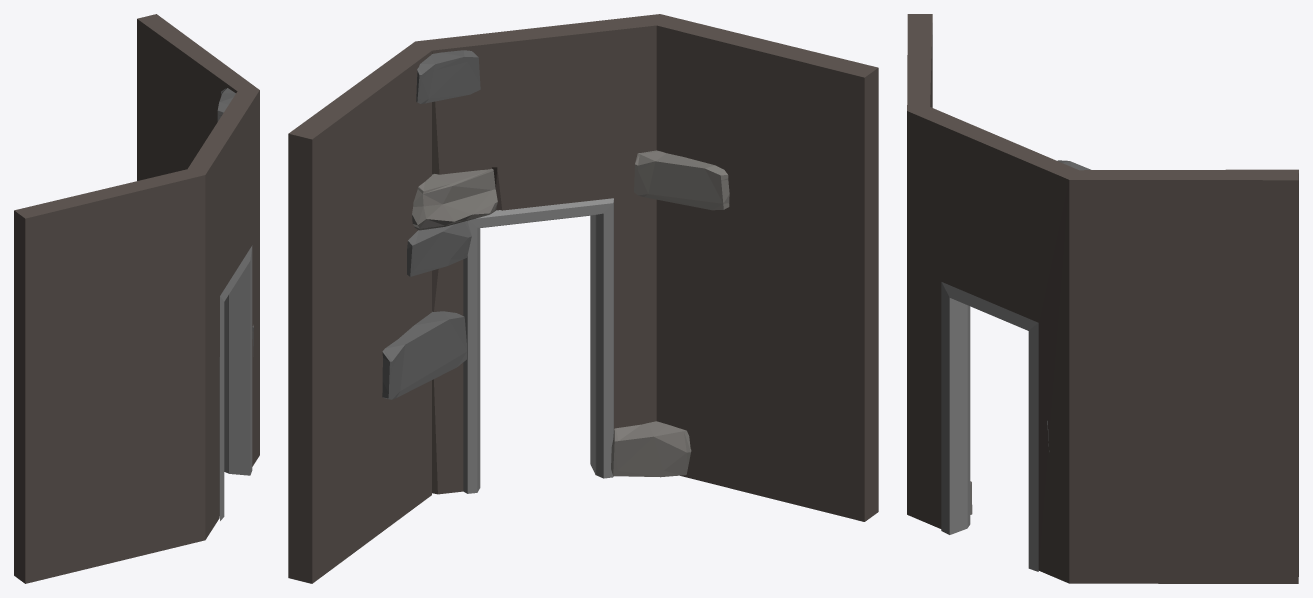
The model's file is MCastle_OctWall_Int_00.FBX.
The picture shows the model from 3 angles, left to right: view 1: azimuth 30°, elevation 25°; view 2: azimuth 150°, elevation 25°; view 3: azimuth 270°, elevation 25°; orthographic projection. The views are drawn at different scales.
Parts seen in each view (by area): view 1: MCastle_OctWall_Int_00_LOD0; view 2: MCastle_OctWall_Int_00_LOD0; view 3: MCastle_OctWall_Int_00_LOD0.
Part boxes in pixels (left/top/right/bottom): MCastle_OctWall_Int_00_LOD0: left=14, top=14, right=259, bottom=583; MCastle_OctWall_Int_00_LOD0: left=288, top=14, right=878, bottom=583; MCastle_OctWall_Int_00_LOD0: left=907, top=14, right=1298, bottom=583.
Size of what is drawn, in the model's own units: 3.94 by 4.5 by 3.92.
